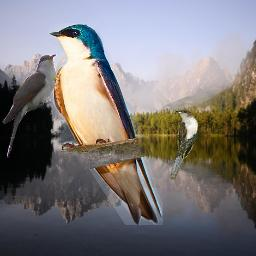Cuckoo: (2, 54, 57, 159), (170, 109, 198, 180)
Swallow: (49, 23, 163, 225)
